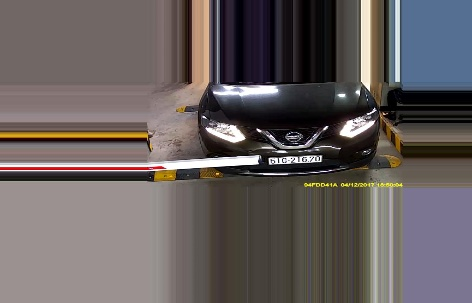plate: (267, 151, 322, 165)
